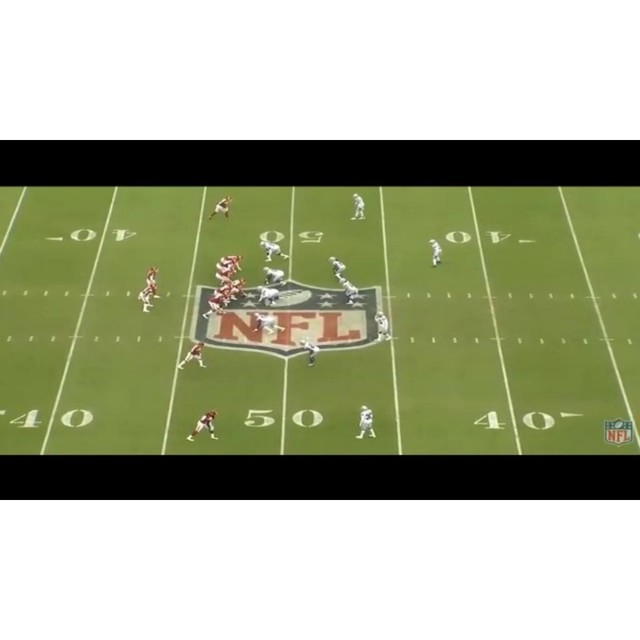american-football-player: (186, 409, 220, 442), (201, 291, 231, 320), (177, 341, 206, 369), (337, 276, 361, 307), (208, 195, 233, 222), (259, 239, 288, 262), (356, 406, 376, 439), (138, 282, 157, 313), (301, 339, 320, 368), (262, 267, 288, 288), (256, 286, 281, 307), (145, 266, 161, 298), (328, 256, 347, 282), (374, 312, 390, 342), (215, 265, 238, 285), (428, 238, 443, 267), (350, 193, 366, 220)
